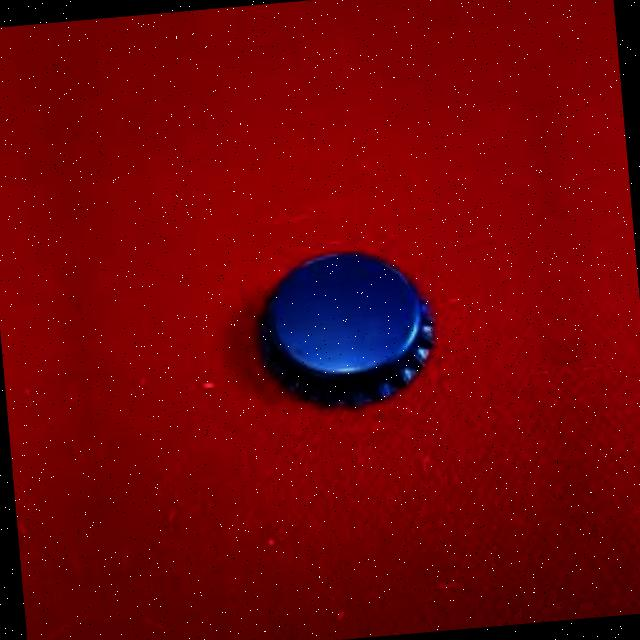Metal: (238, 223, 455, 430)
